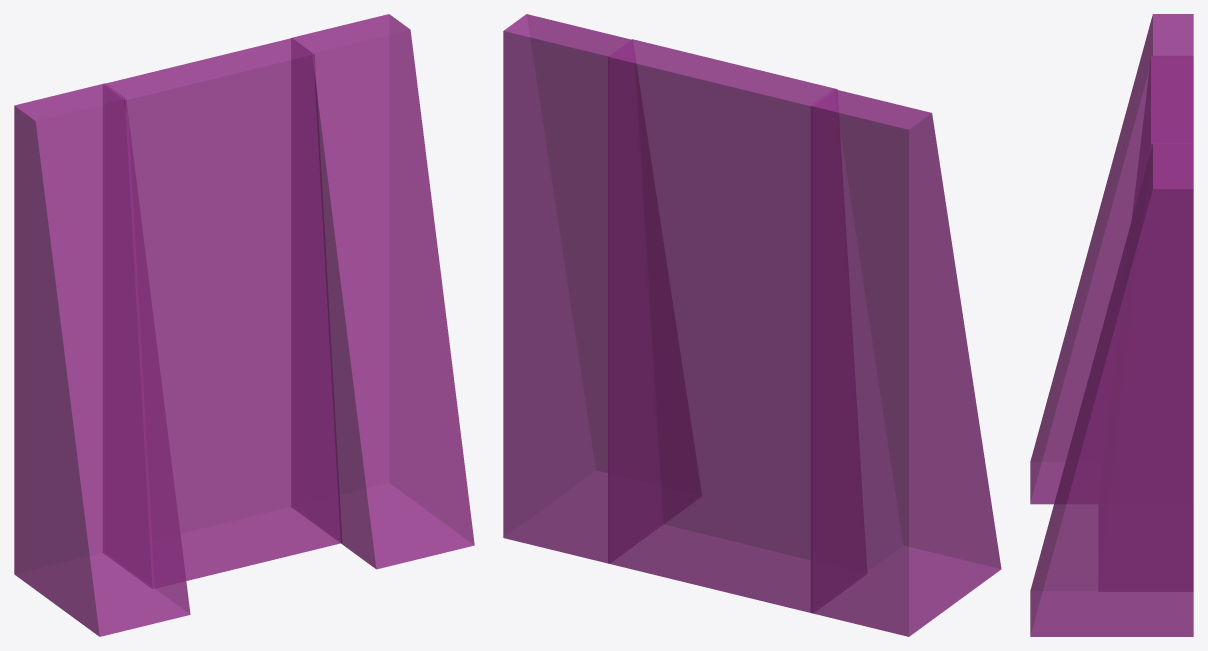
File: SM_Bld_Wall_Fort_Top_03_Collision.fbx
3 views of the same model, side by side, from view 1: azimuth 30°, elevation 25°; view 2: azimuth 150°, elevation 25°; view 3: azimuth 270°, elevation 25° (orthographic). The views are drawn at different scales.
Parts seen in each view (by area): view 1: SM_Bld_Wall_Fort_Top_03_Collision; view 2: SM_Bld_Wall_Fort_Top_03_Collision; view 3: SM_Bld_Wall_Fort_Top_03_Collision.
Part boxes in pixels (<box>): SM_Bld_Wall_Fort_Top_03_Collision: <box>14,14,474,636</box>; SM_Bld_Wall_Fort_Top_03_Collision: <box>503,14,1001,636</box>; SM_Bld_Wall_Fort_Top_03_Collision: <box>1030,14,1193,636</box>.
Bounding box in the file's own units: 504 × 602 × 199.
